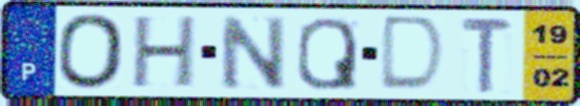D: (376, 13, 450, 95)
H: (128, 13, 200, 91)
N: (217, 13, 289, 92)
O: (55, 11, 127, 92)
Q: (294, 15, 361, 92)
T: (457, 15, 517, 95)
